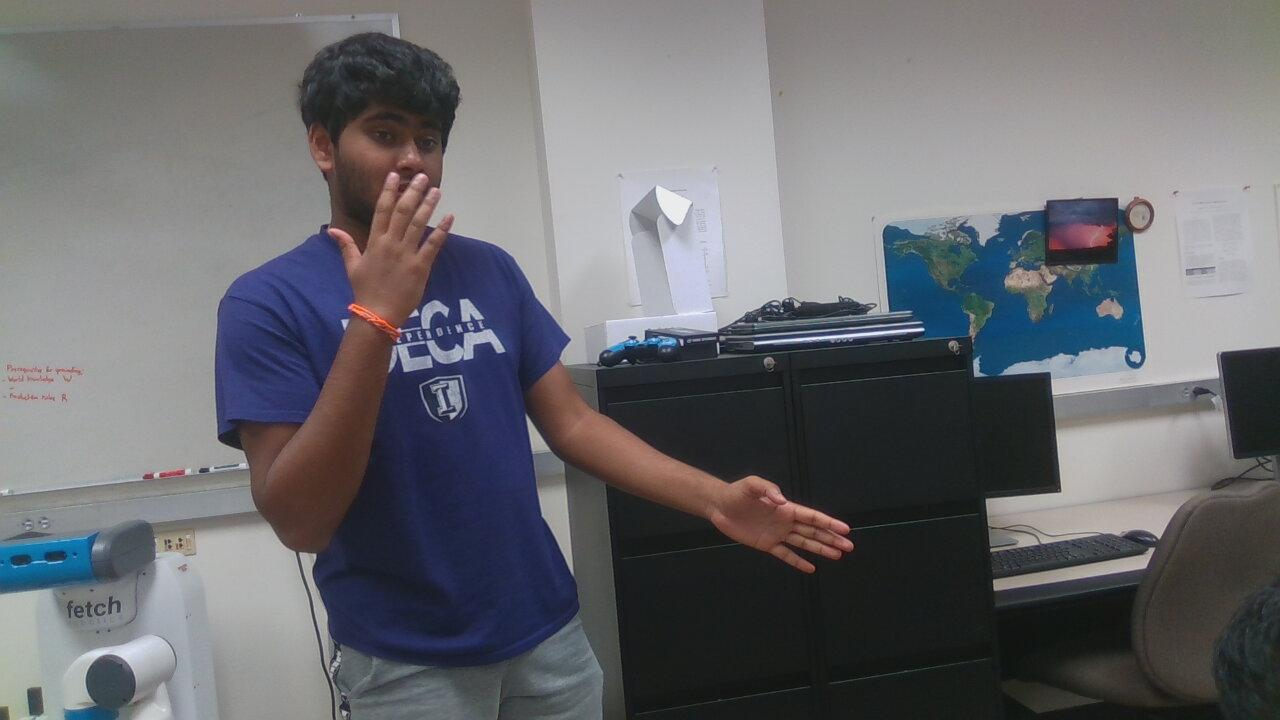hands: (328, 167, 452, 325), (701, 462, 850, 586)
